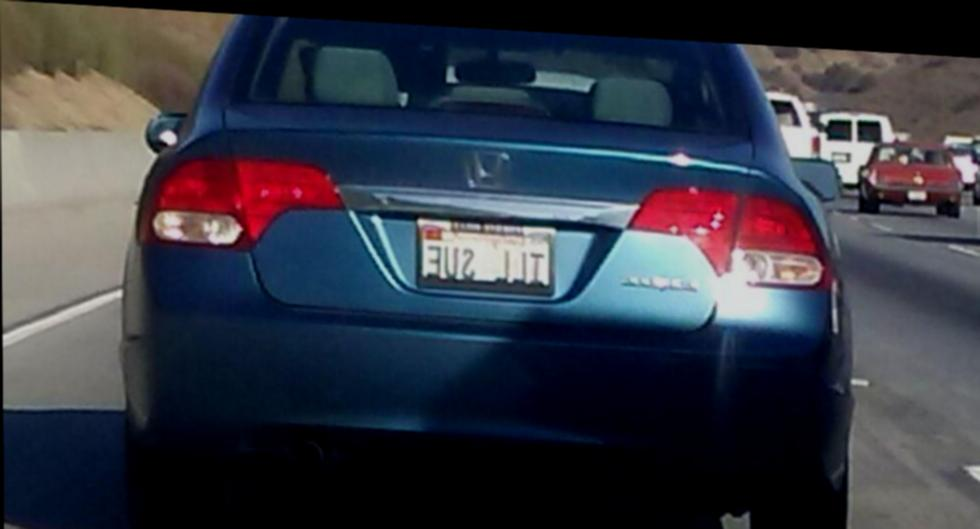License_Plate: (412, 214, 562, 302)
